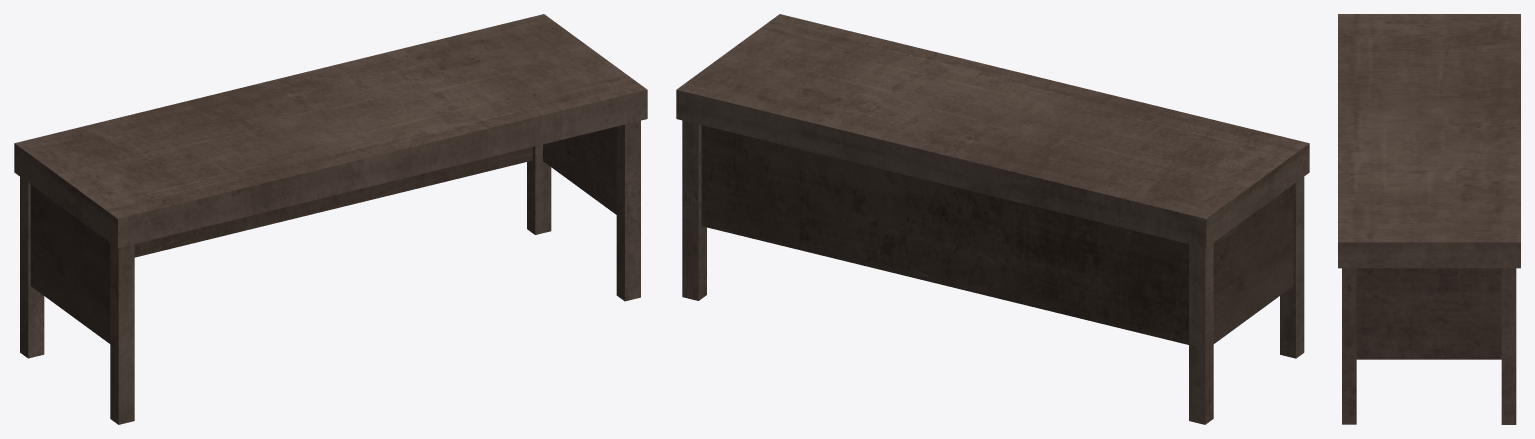
File: office desk with shelf.fbx
3 renders of one model, left to right at view 1: azimuth 30°, elevation 25°; view 2: azimuth 150°, elevation 25°; view 3: azimuth 270°, elevation 25°, orthographic. The views are drawn at different scales.
Parts seen in each view (by area): view 1: Desk; view 2: Desk; view 3: Desk.
Boxes of the visible parts, bbox=[...] form: Desk: bbox=[14, 14, 647, 424]; Desk: bbox=[676, 14, 1309, 424]; Desk: bbox=[1338, 14, 1520, 424].
Bounding box in the file's own units: 1479 × 556 × 500.
